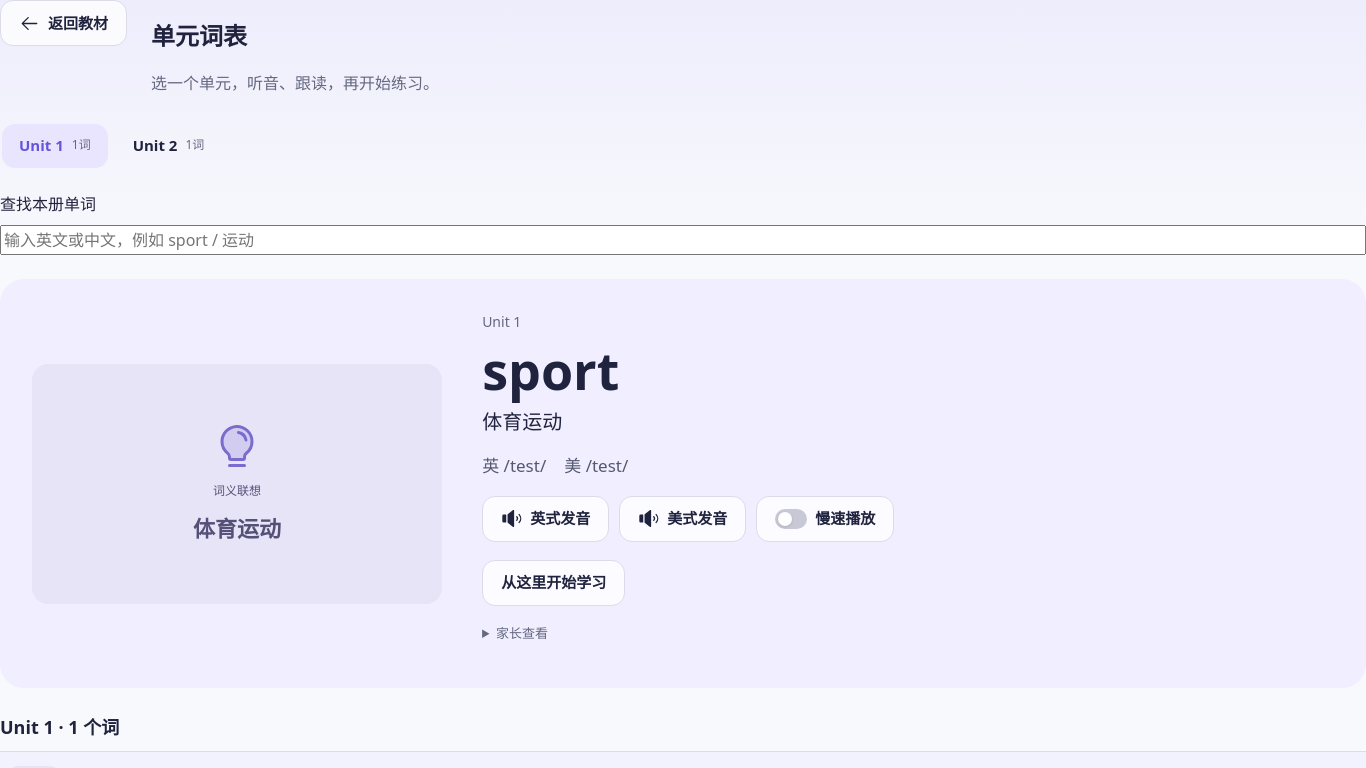
Scenario: CurriculumBookView › clears an empty search back to the previously selected unit
Expected: the element named "当前单词 sport" is shown, [0,279,1365,688]
Click the button "Unit 2 1词".
click(169, 146)  # box [116,124,221,168]
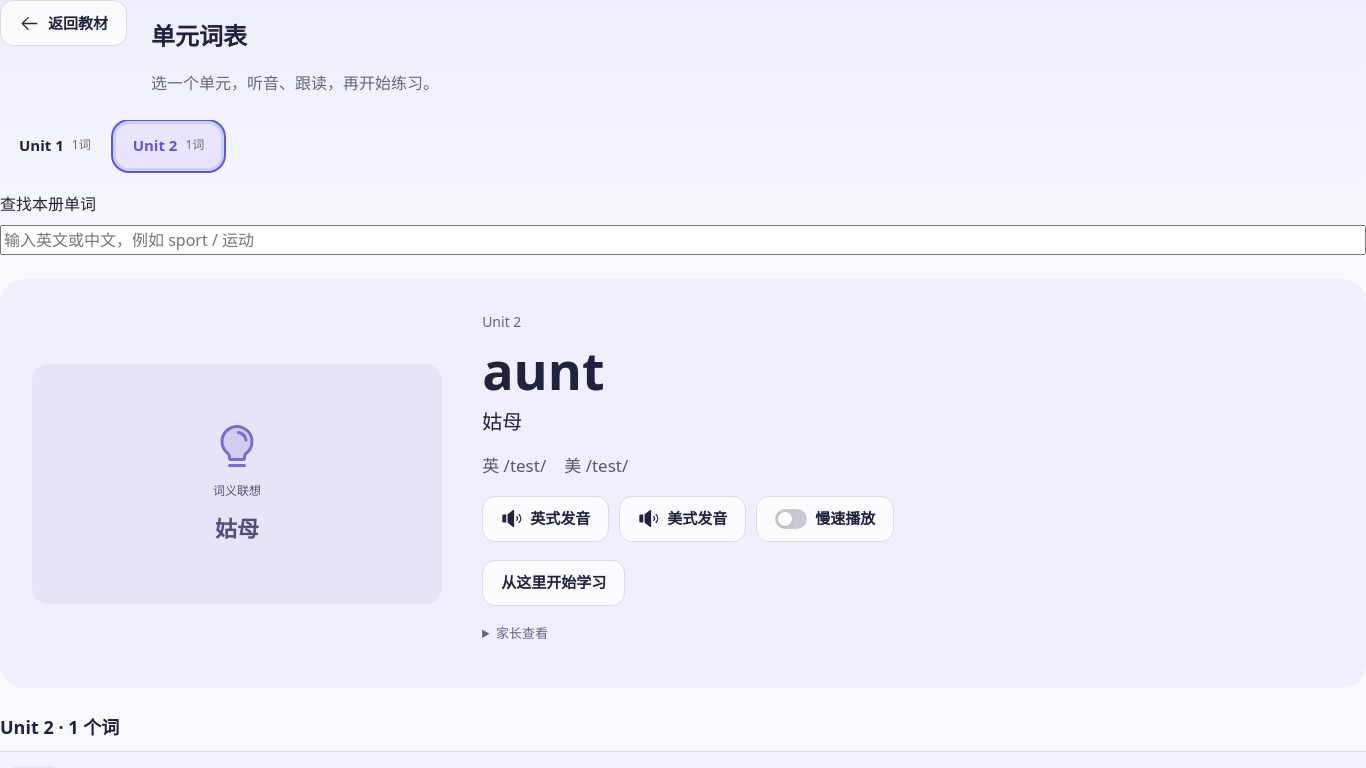
Type "missing-word" into the search field.
click(683, 240); type("missing-word")  # box [0,225,1365,255]
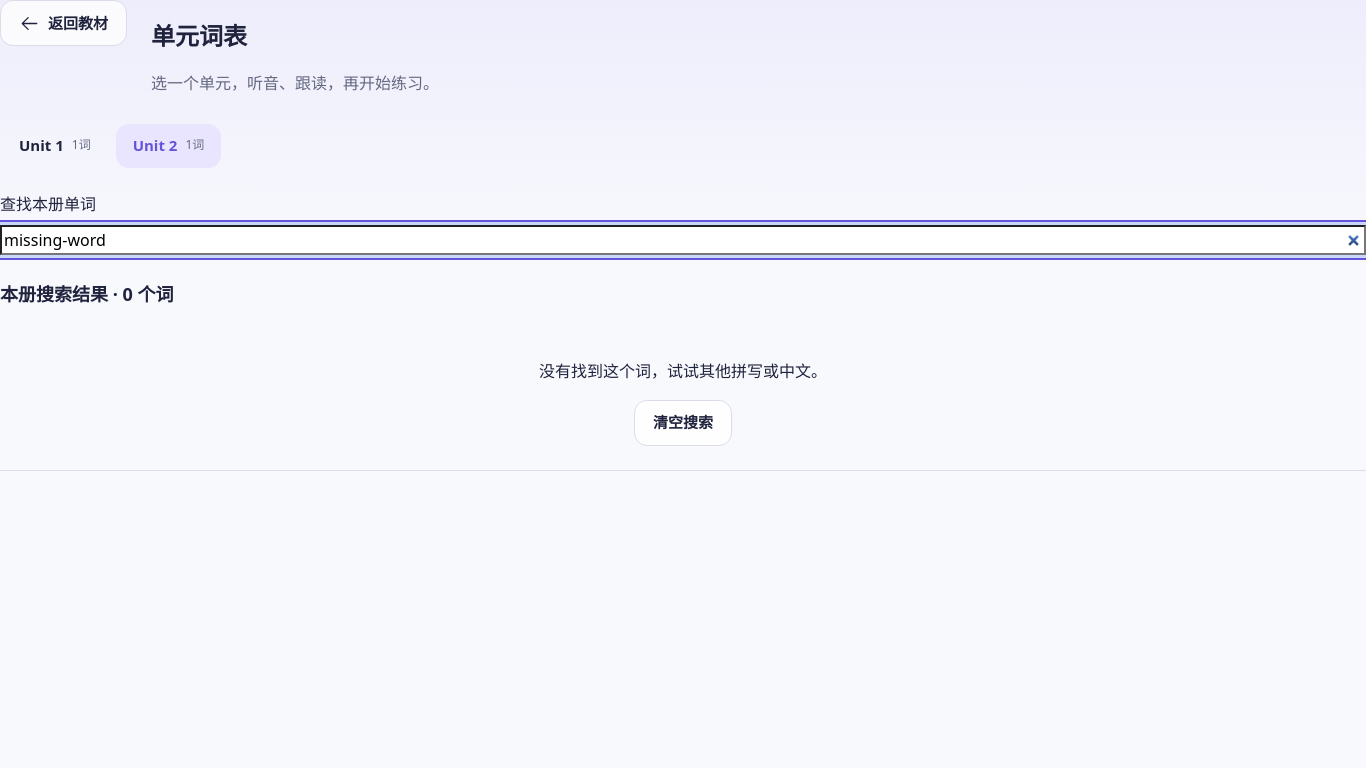
Click the button "清空搜索".
click(683, 423)  # box [634,400,732,446]
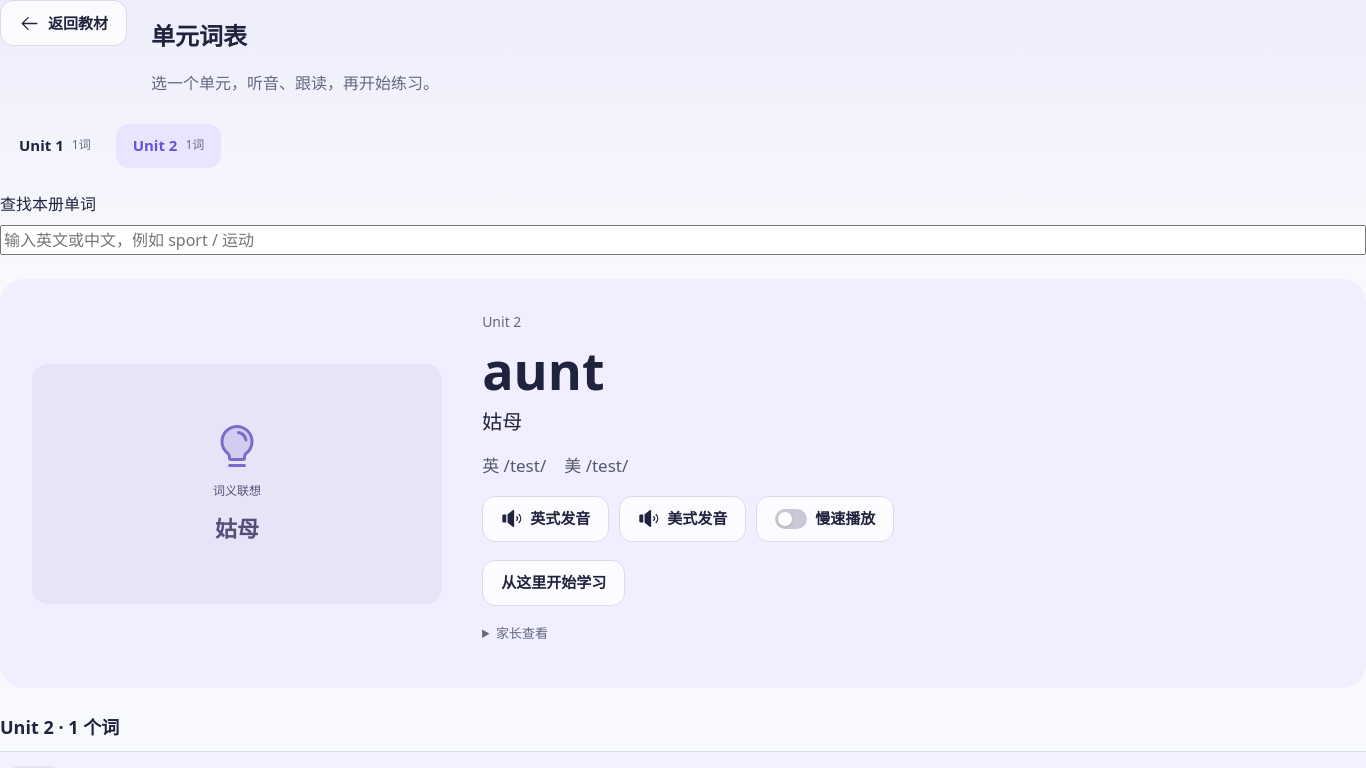
Result: the search field is empty at [0,225,1365,255]
Result: the element named "当前单词 aunt" is shown at [0,279,1365,688]
Result: the heading "Unit 2 · 1 个词" is shown at [0,715,119,739]
